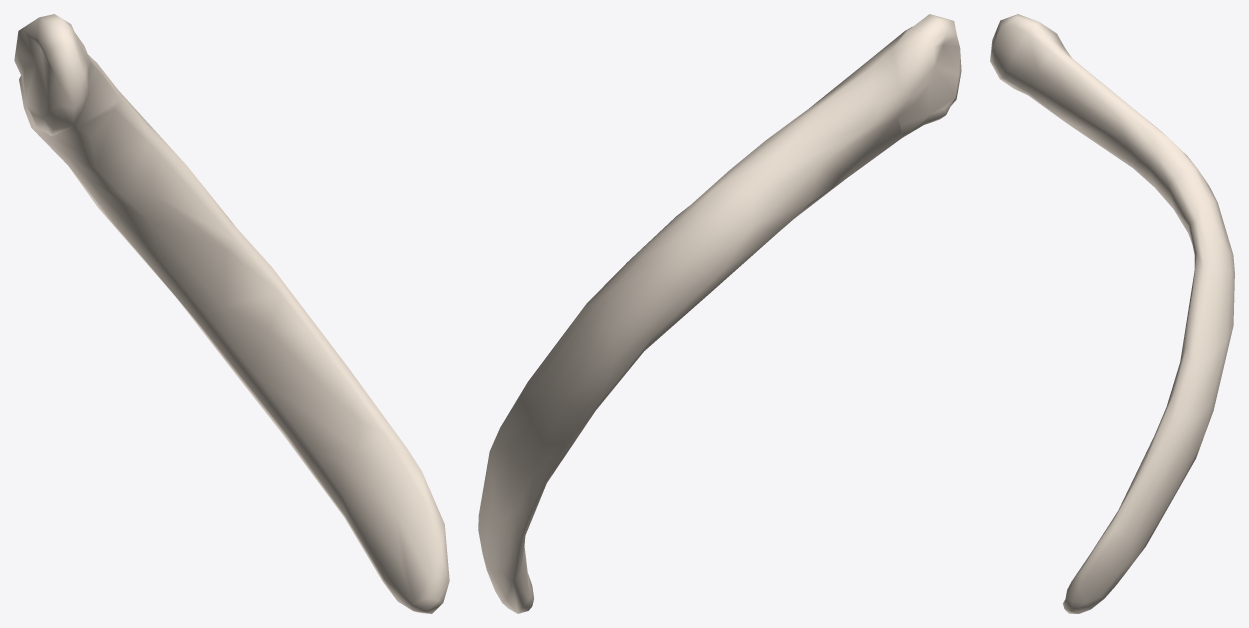
The model's file is left_rib_12.glb.
3 views of the same model, side by side, from view 1: azimuth 30°, elevation 25°; view 2: azimuth 150°, elevation 25°; view 3: azimuth 270°, elevation 25° (orthographic). The views are drawn at different scales.
Parts seen in each view (by area): view 1: Rib (12th).r; view 2: Rib (12th).r; view 3: Rib (12th).r.
Boxes of the visible parts, x1,y1,x2,y2 form: Rib (12th).r: (14,14,449,613); Rib (12th).r: (478,14,961,613); Rib (12th).r: (990,14,1234,613).
Size of the model in its own units: 0.0642 by 0.0976 by 0.0462.
